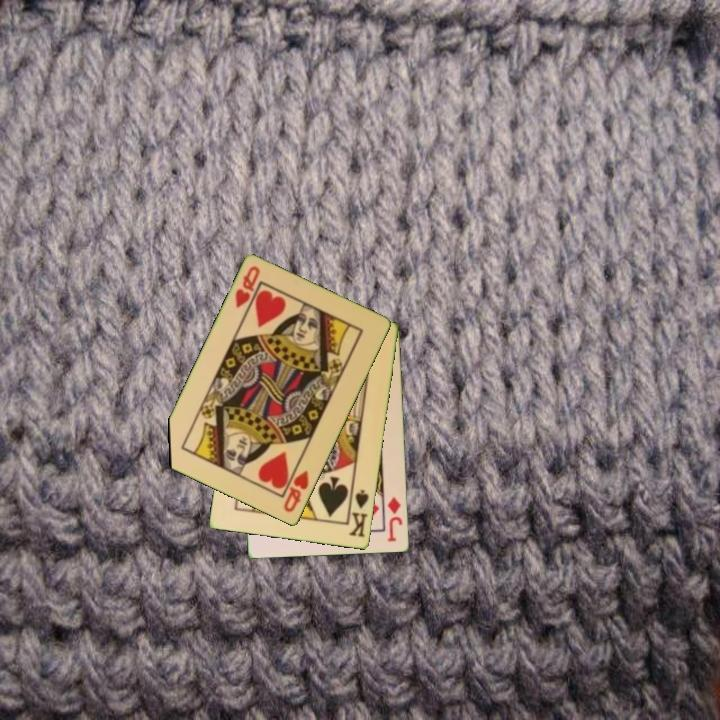Jd: (384, 494, 406, 545)
Ks: (345, 485, 372, 540)
Qh: (280, 467, 312, 516), (231, 263, 263, 311)
